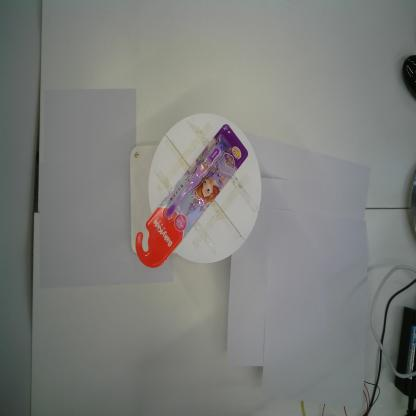Personal Hygiene: (135, 123, 248, 268)
